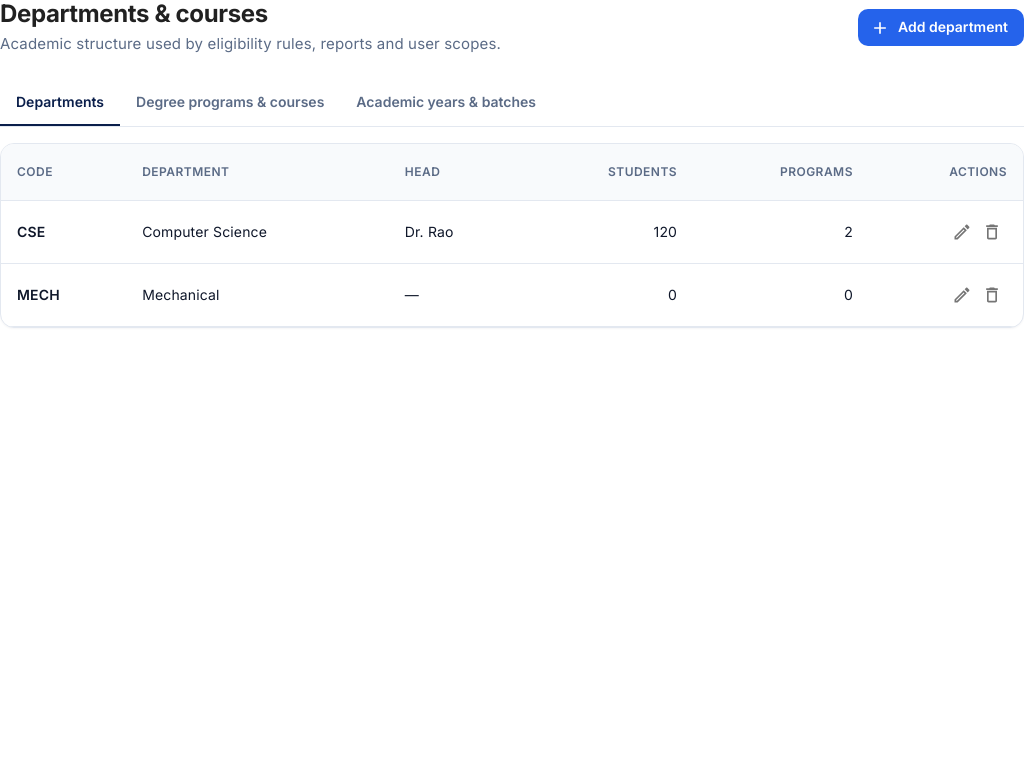
Scenario: create / edit dialogs › department: code and name are required; payload is trimmed; a 409 duplicate is shown in the dialog
Click the button "Add department". click: point(941, 28)
box: [858,9,1023,46]
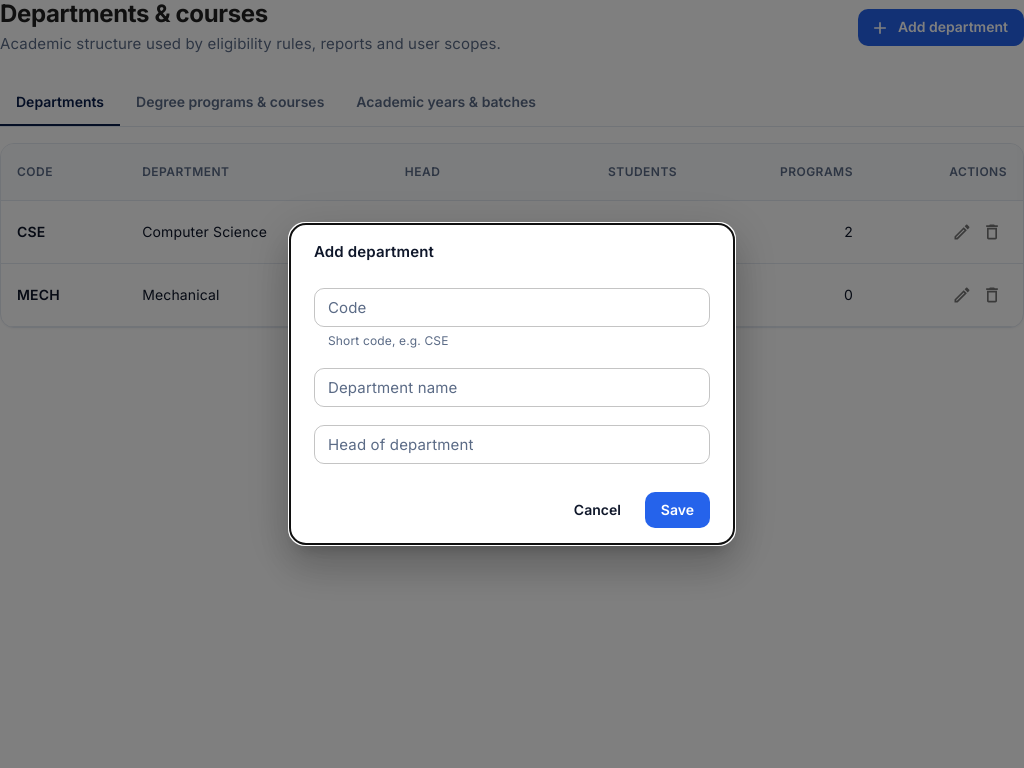
Click the button "Save". click: point(677, 510)
box: [645,492,710,528]
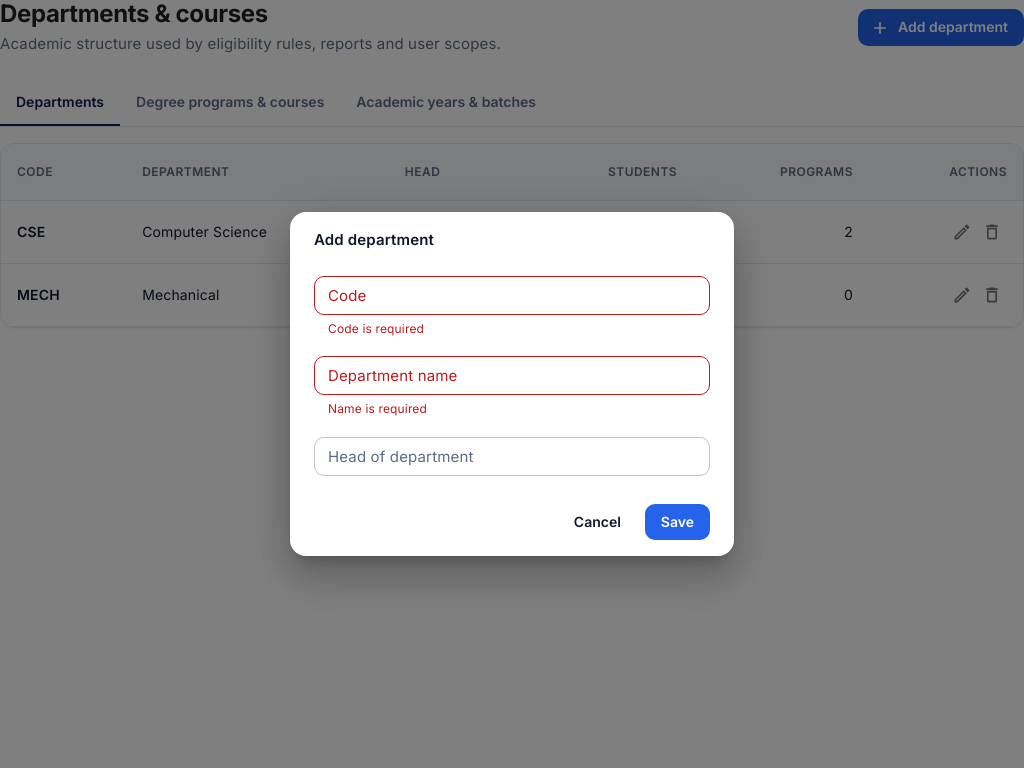
Expected: the text "Code is required" is shown, [328,321,424,336]
Expected: the text "Name is required" is shown, [328,401,427,416]
Type " ECE " into the field labelled "Code". click: point(512, 295)
box: [314,276,710,315]
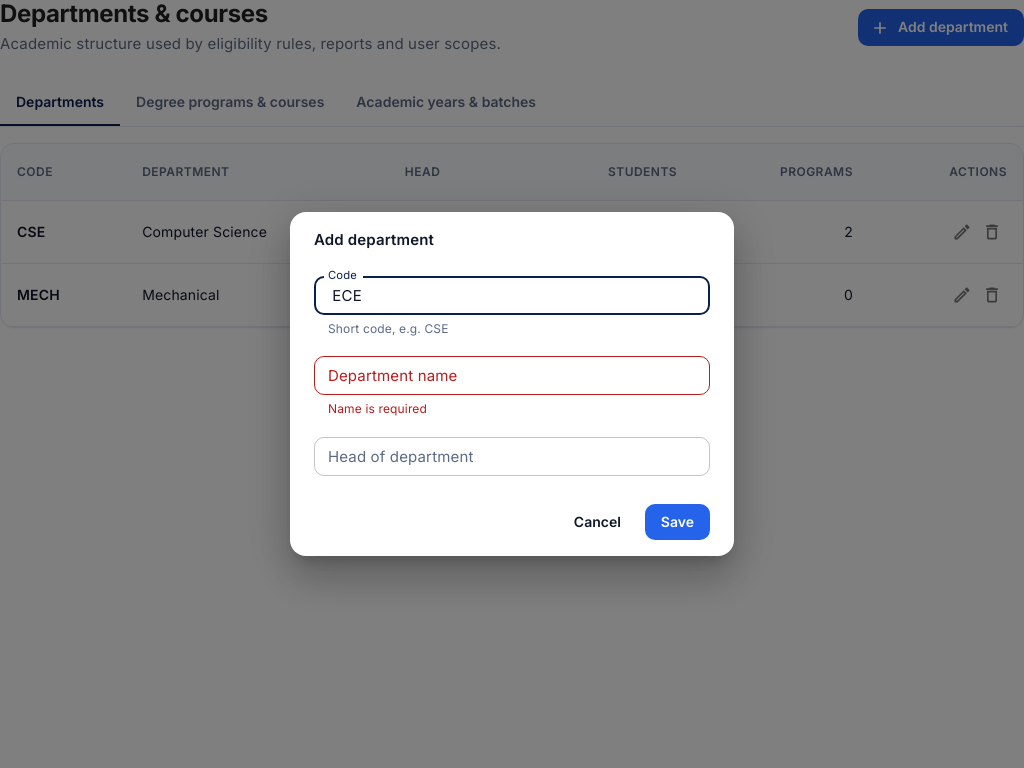
Type "Electronics" into the field labelled "Department name". click: point(512, 376)
box: [314,356,710,395]
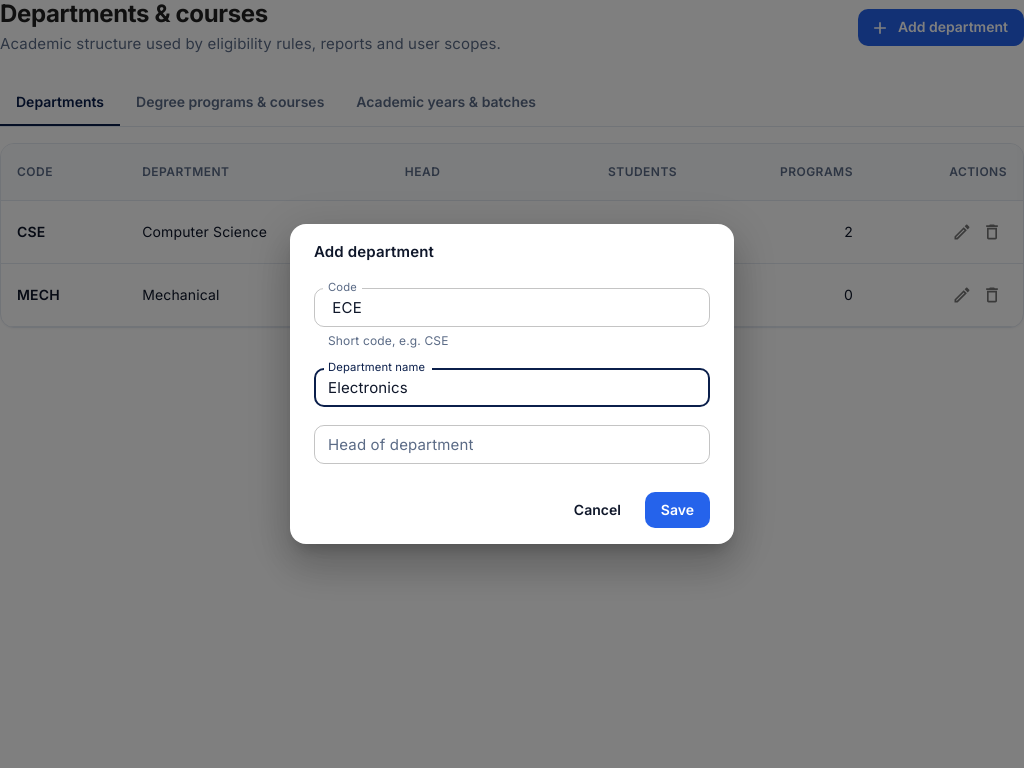
Click the button "Save". click: point(677, 510)
box: [645,492,710,528]
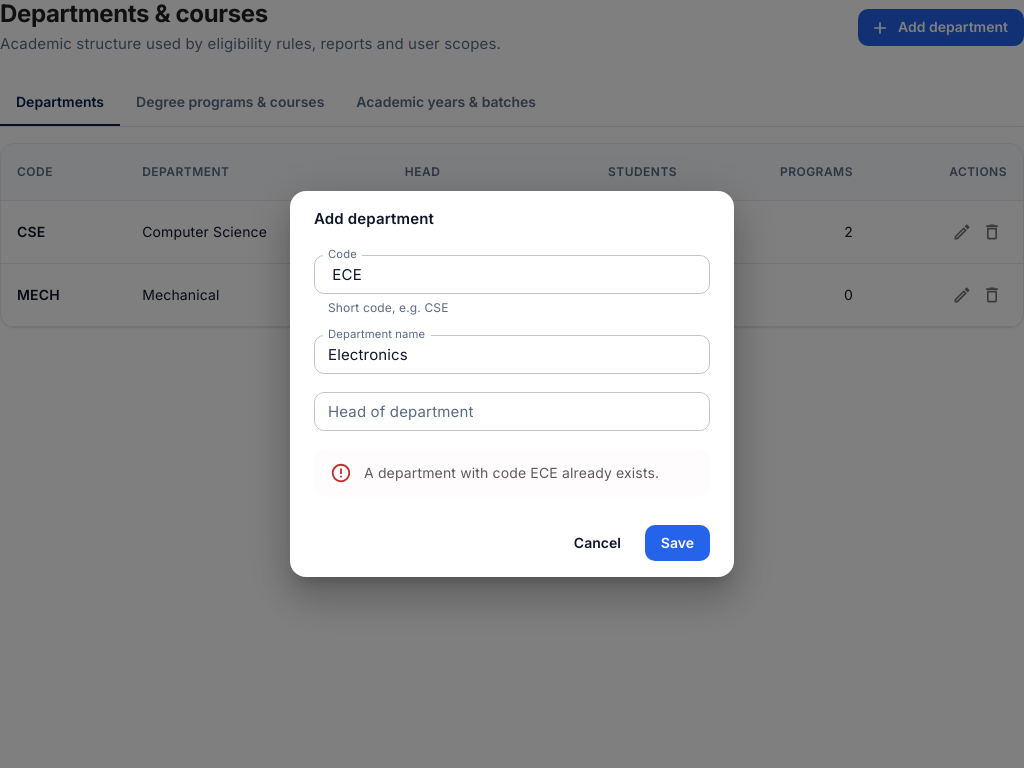
Expected: the text "A department with code ECE already exists." is shown, [364,464,659,480]
Click the button "Save". click: point(677, 543)
box: [645,524,710,561]
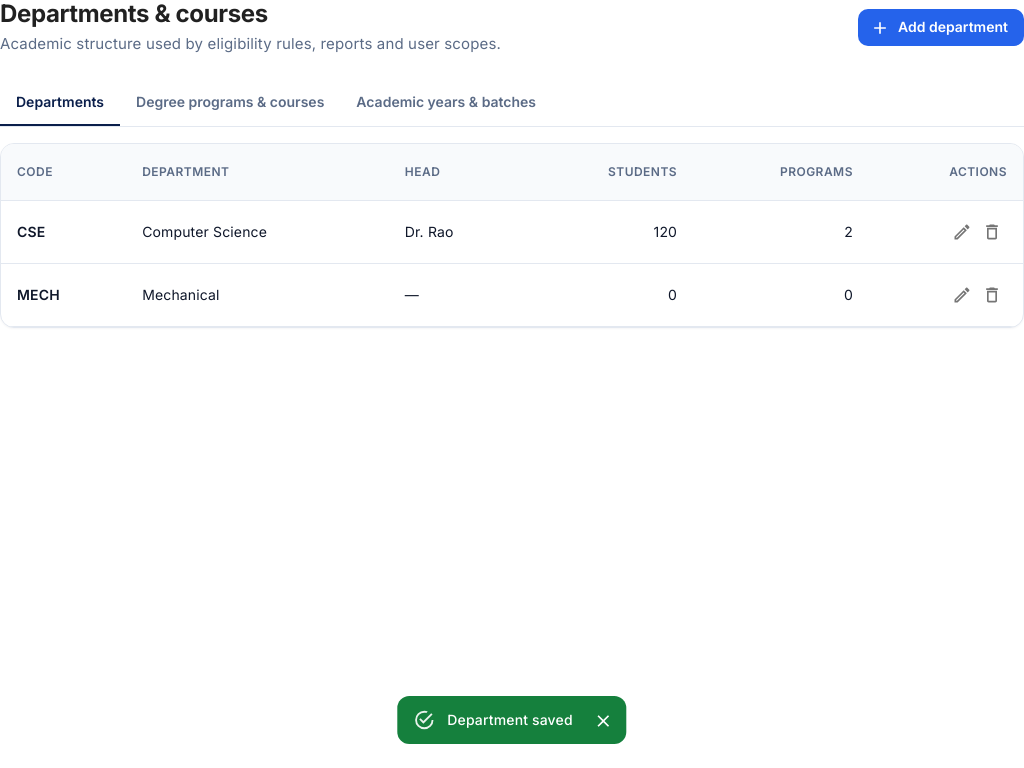
Expected: the text "Department saved" is shown, [447,711,573,728]
